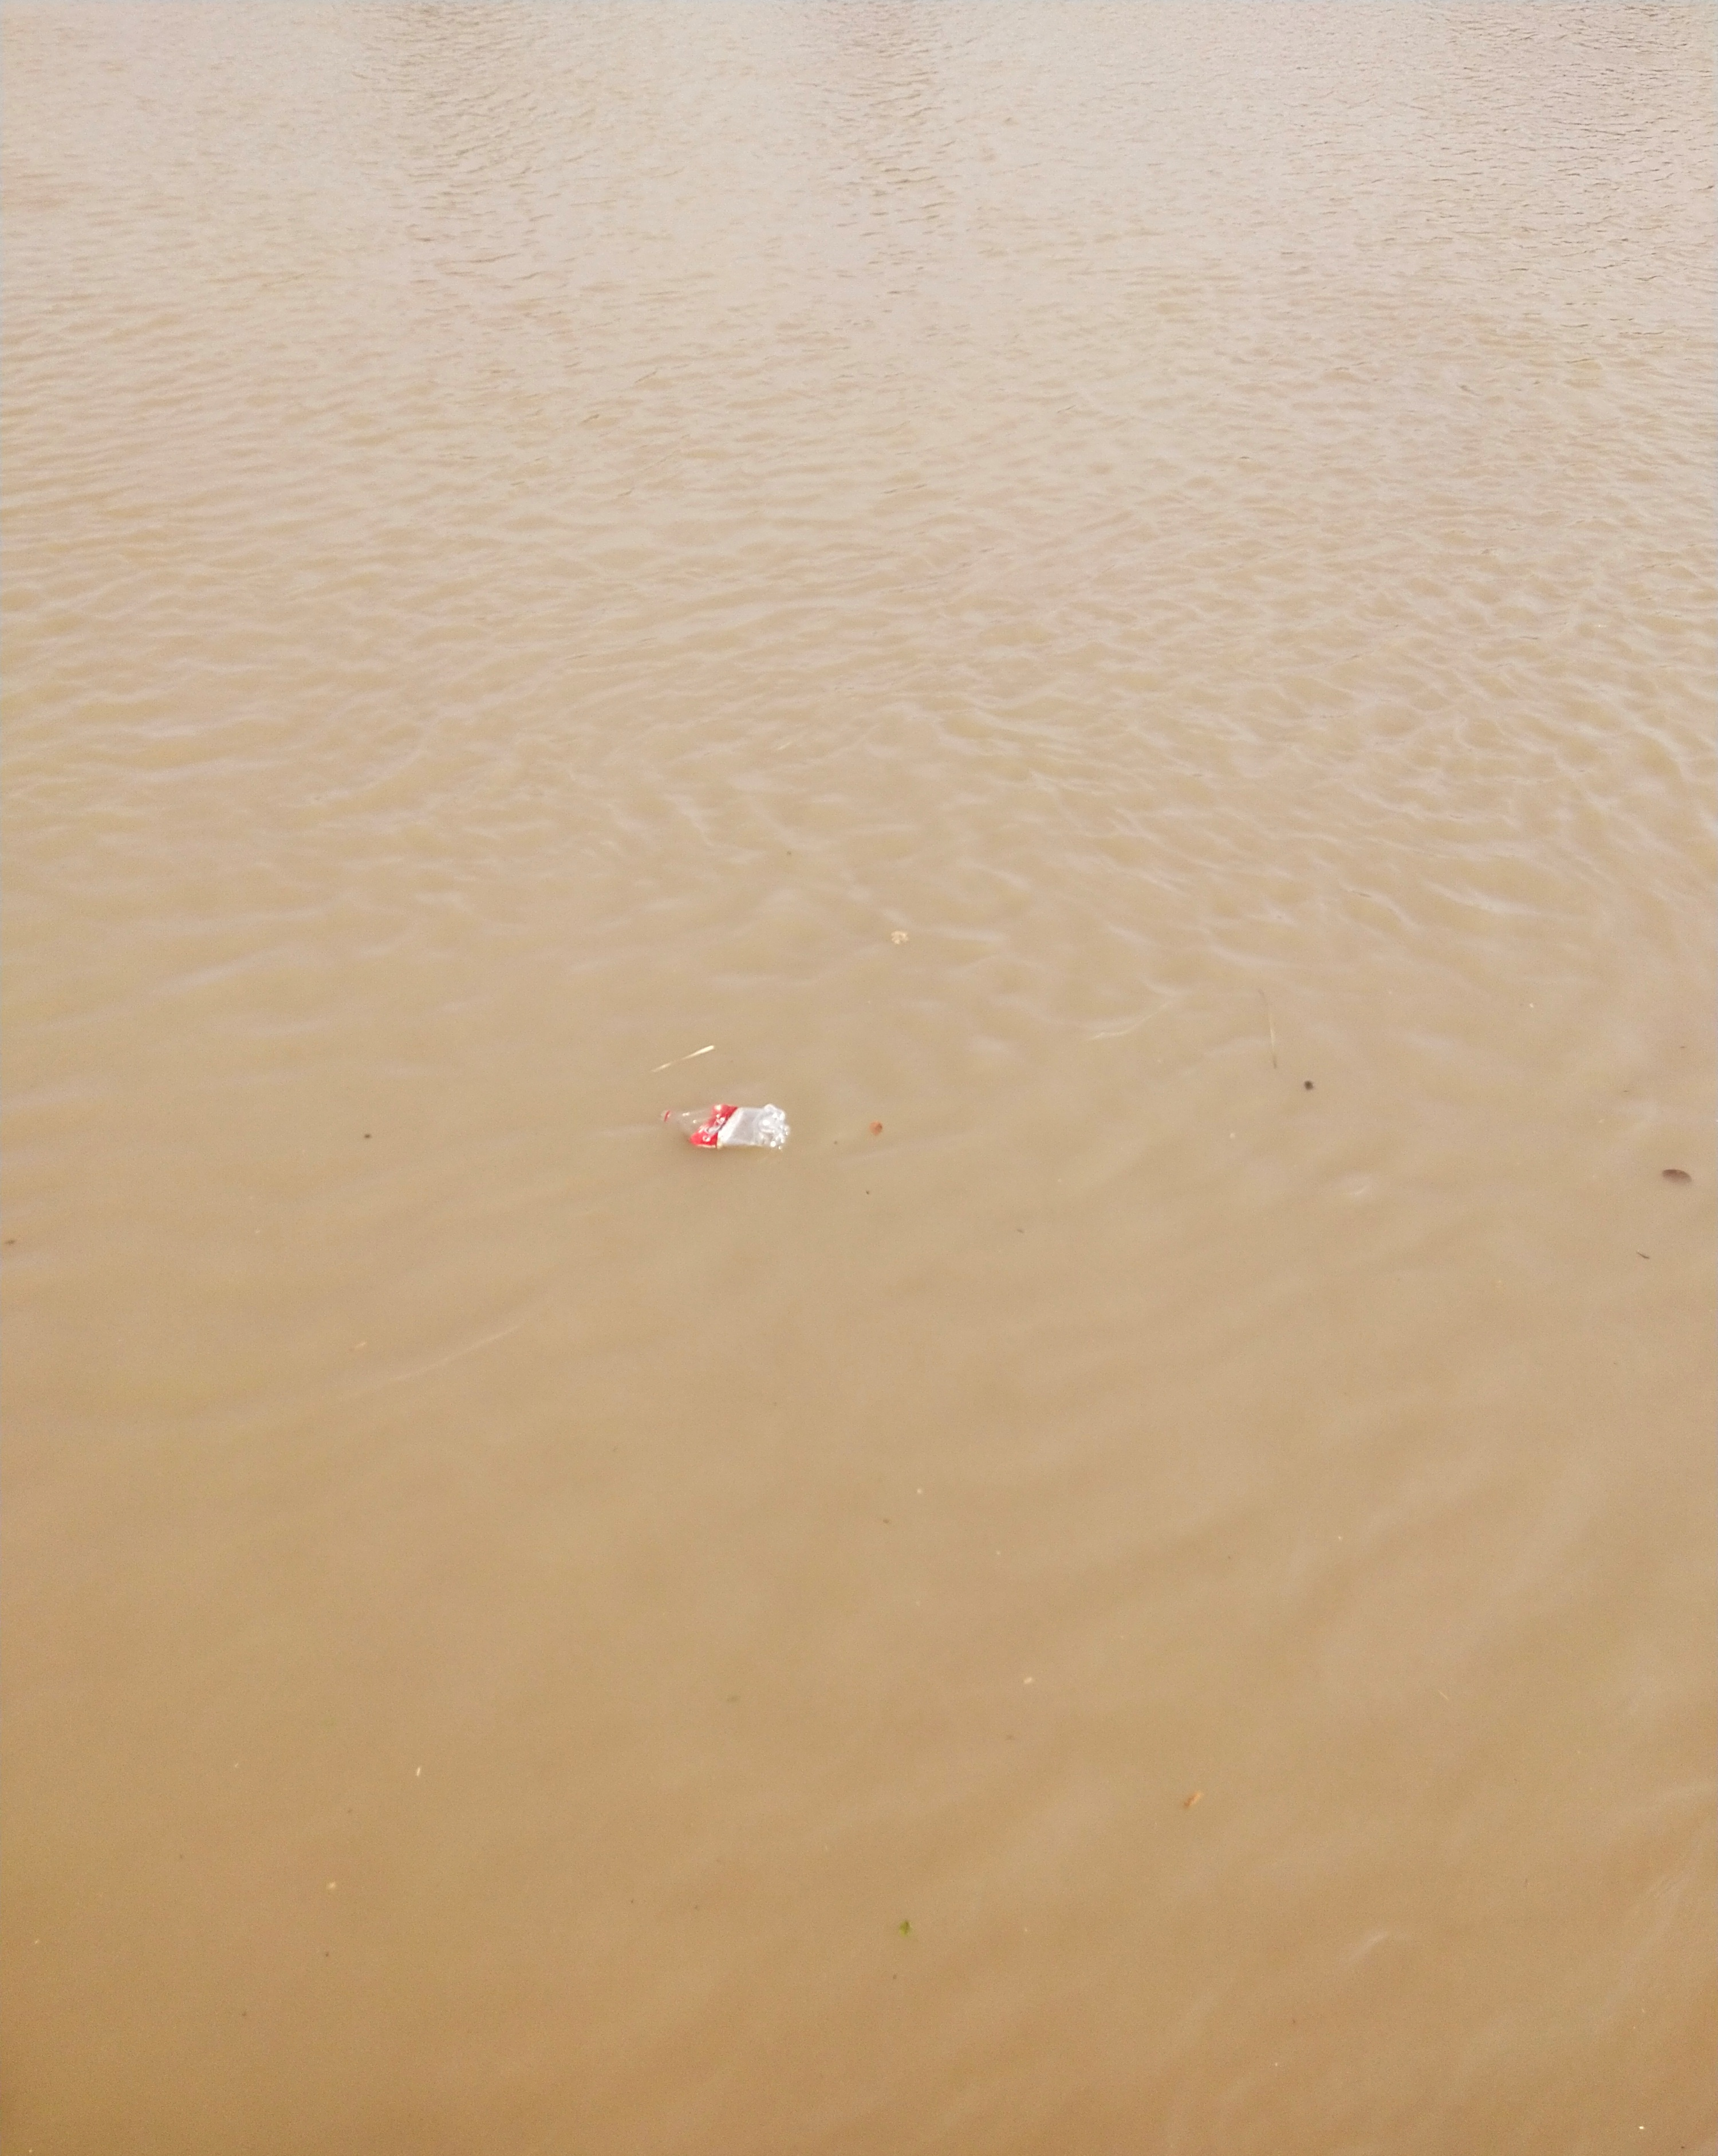Plastic Bottle: (661, 1104, 789, 1150)
